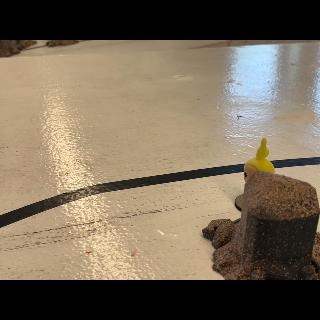teletubby: (243, 138, 275, 183)
